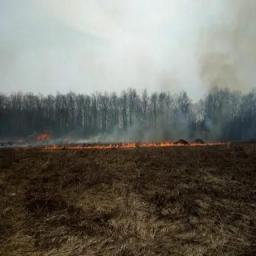Low smoke: (0, 11, 256, 146)
Small fire: (8, 137, 249, 155)
